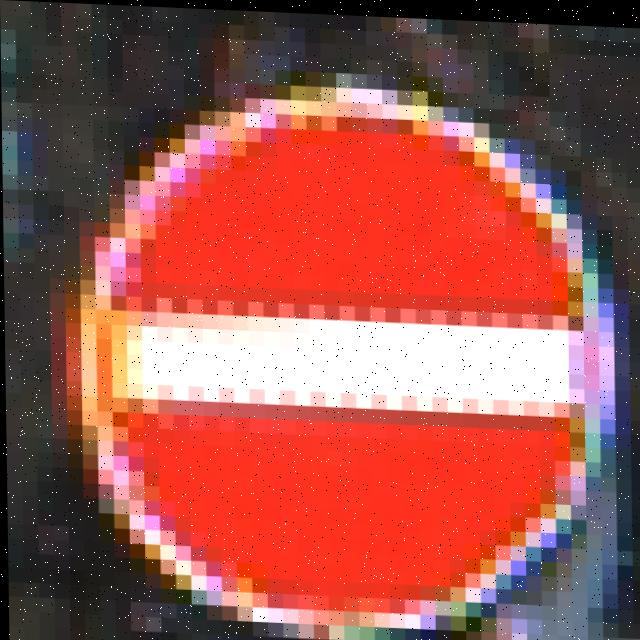road_rough: (81, 55, 582, 631)
